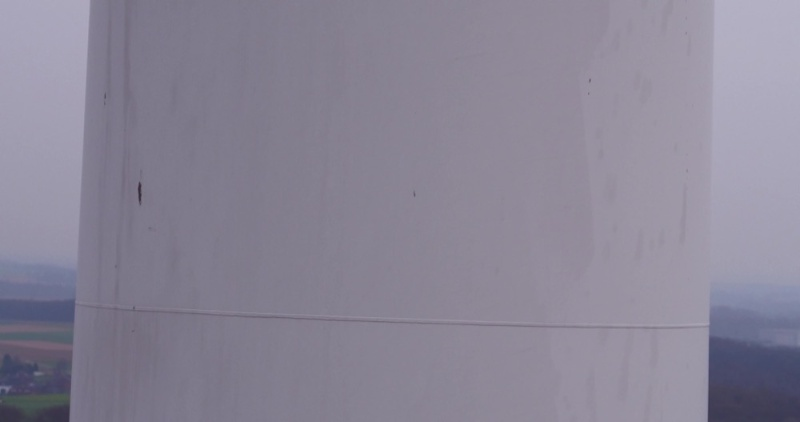weldseam: (67, 293, 714, 334)
